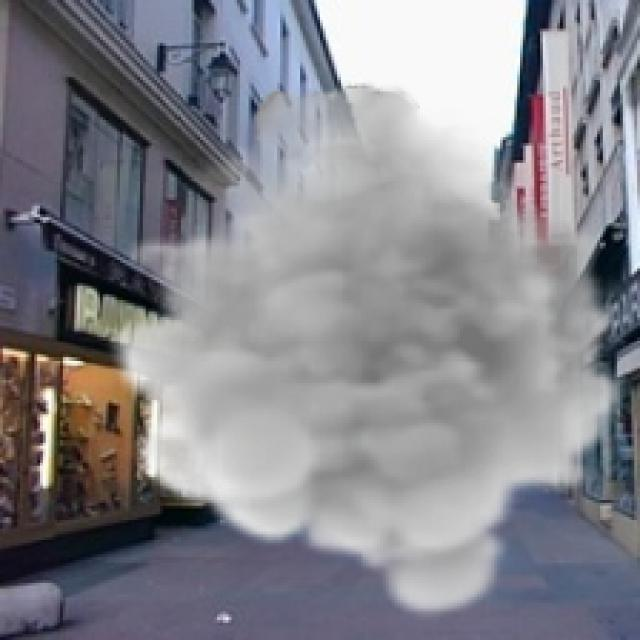smoke: (105, 80, 626, 623)
